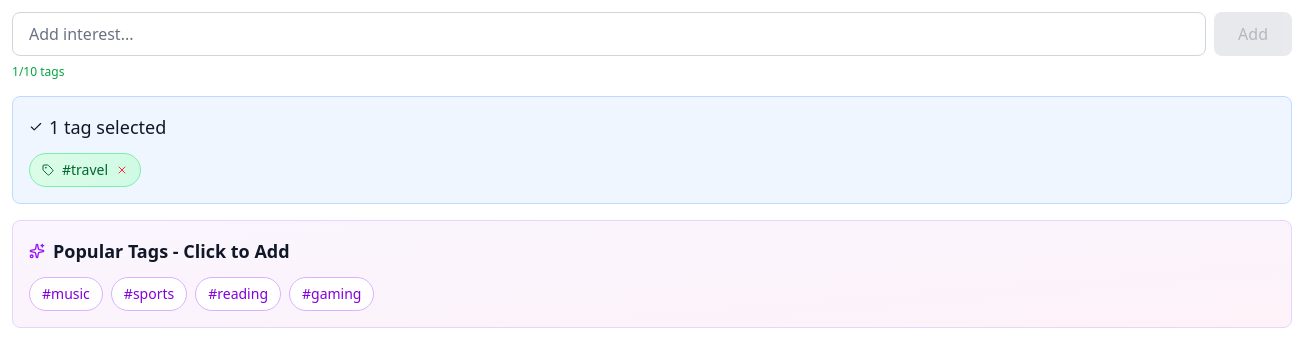
Scenario: TagSelector Component › Validation and Errors › should clear error after successful tag addition
The width and height of the screenshot is (1304, 345).
In the field with placeholder "Add interest...": point(609, 34) x1=12 y1=12 x2=1206 y2=56, type "travel"
Then press Enter
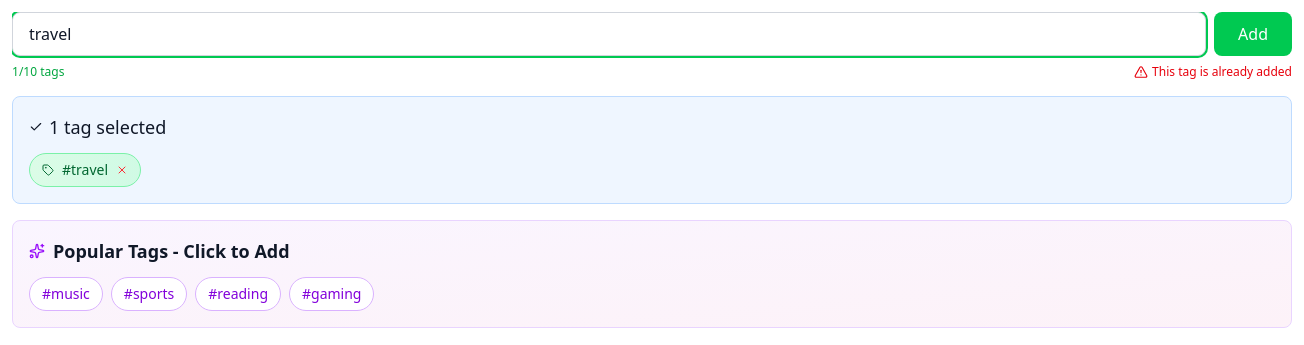
Now the text "This tag is already added" is shown, box x1=1134 y1=64 x2=1292 y2=80
Replace the text in the field with placeholder "Add interest..." with "music": point(609, 34) x1=12 y1=12 x2=1206 y2=56
Then press Enter
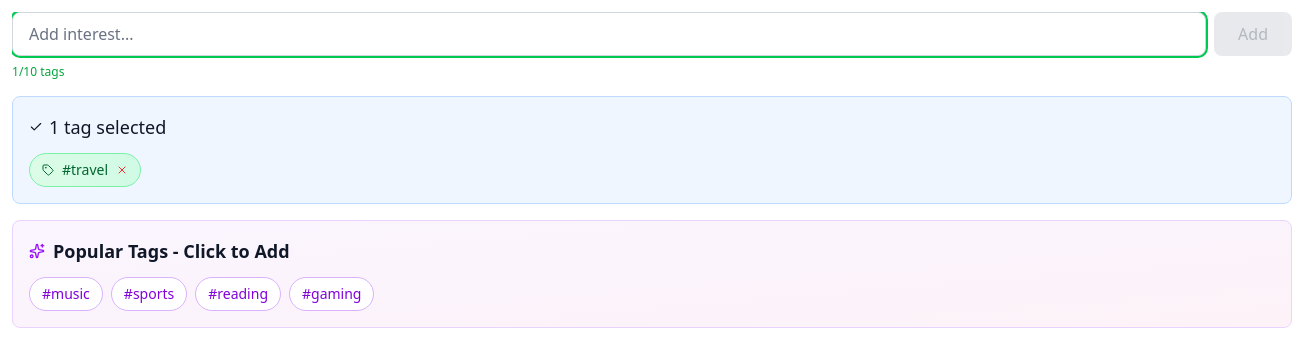
Now the text "This tag is already added" is gone
